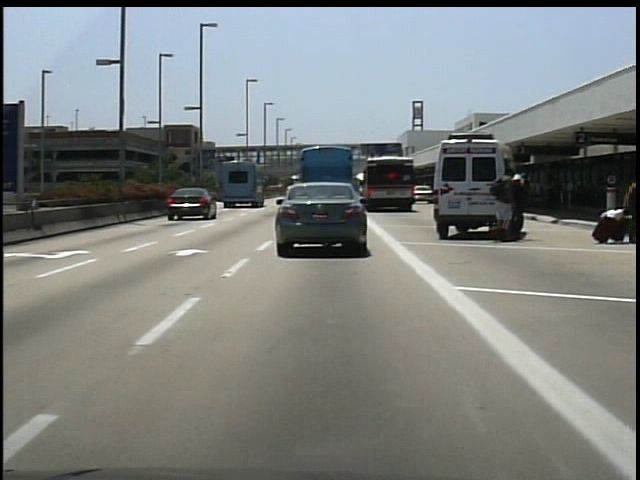person: (490, 165, 520, 241), (513, 172, 531, 242)
